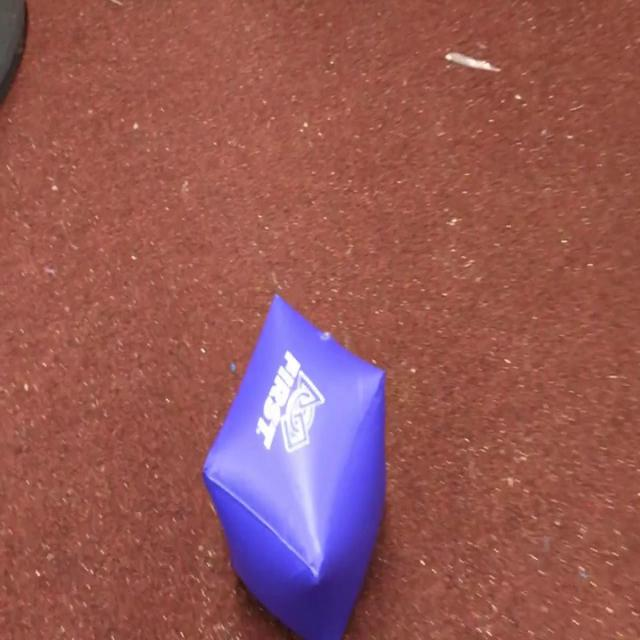frc_cube: (200, 292, 386, 640)
